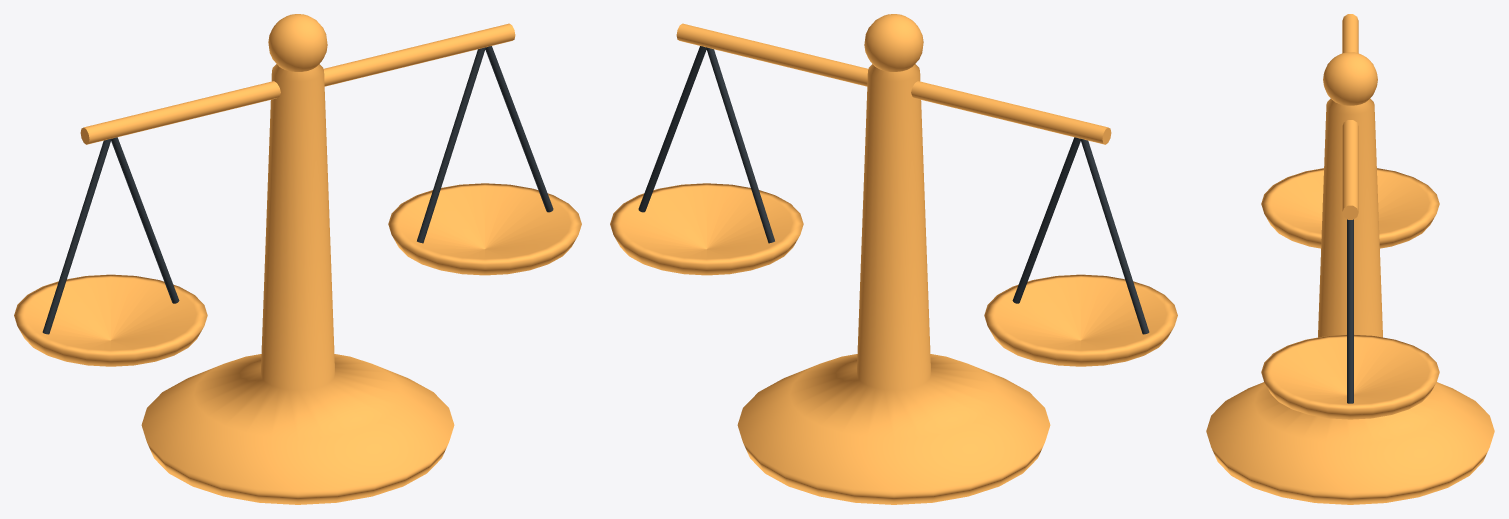
File: hollowwick-halloween-apothecary-balance-d56a4011__21613.glb
The picture shows the model from 3 angles, left to right: view 1: azimuth 30°, elevation 25°; view 2: azimuth 150°, elevation 25°; view 3: azimuth 270°, elevation 25°; orthographic projection. The views are drawn at different scales.
Parts seen in each view (by area): view 1: apothecary-balance; view 2: apothecary-balance; view 3: apothecary-balance.
Boxes of the visible parts, x1,y1,x2,y2 form: apothecary-balance: (14, 14, 581, 504); apothecary-balance: (610, 14, 1177, 504); apothecary-balance: (1206, 14, 1494, 504).
Bounding box in the file's own units: 0.84 × 0.63 × 0.4201.
